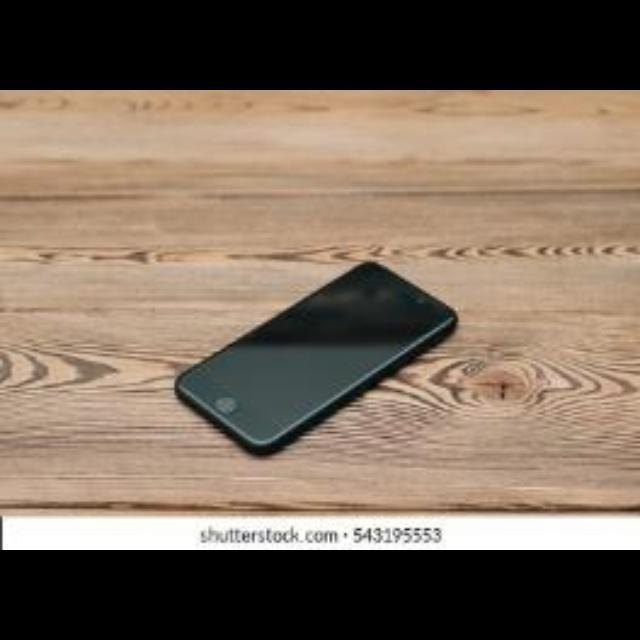Phone: (174, 260, 462, 458)
